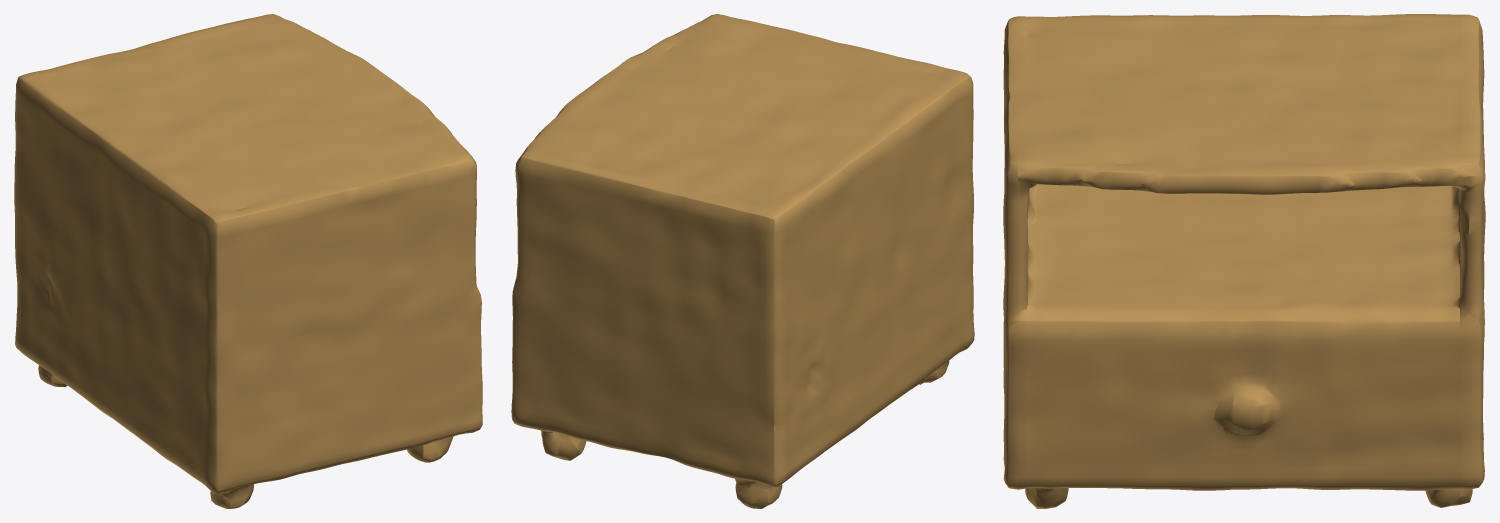
Rendered from nightstand.glb.
3 views of the same model, side by side, from view 1: azimuth 30°, elevation 25°; view 2: azimuth 150°, elevation 25°; view 3: azimuth 270°, elevation 25° (orthographic). The views are drawn at different scales.
Visible parts, largest first — view 1: nightstand_8_3; view 2: nightstand_8_3; view 3: nightstand_8_3.
Boxes of the visible parts, x1,y1,x2,y2 form: nightstand_8_3: (14,14,482,508); nightstand_8_3: (511,14,974,508); nightstand_8_3: (1003,14,1485,508).
Size of what is drawn, in the model's own units: 0.6485 by 0.6701 by 0.8022.
